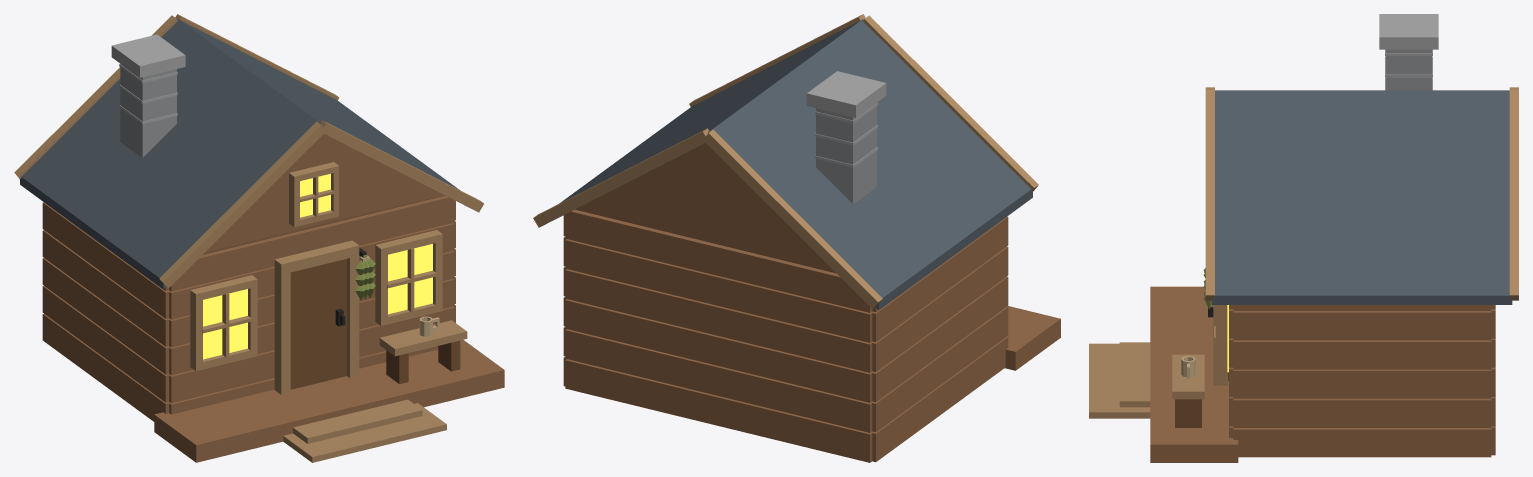
The model's file is SM_Cabin_Prototype.fbx.
The picture shows the model from 3 angles, left to right: view 1: azimuth 30°, elevation 25°; view 2: azimuth 150°, elevation 25°; view 3: azimuth 270°, elevation 25°; orthographic projection. The views are drawn at different scales.
Parts seen in each view (by area): view 1: SM_Cabin_Prototype; view 2: SM_Cabin_Prototype; view 3: SM_Cabin_Prototype.
Part boxes in pixels (x1,y1,x2,y2): SM_Cabin_Prototype: (14,14,504,462); SM_Cabin_Prototype: (533,14,1060,462); SM_Cabin_Prototype: (1089,14,1518,462).
Bounding box in the file's own units: 458 × 414 × 507.
